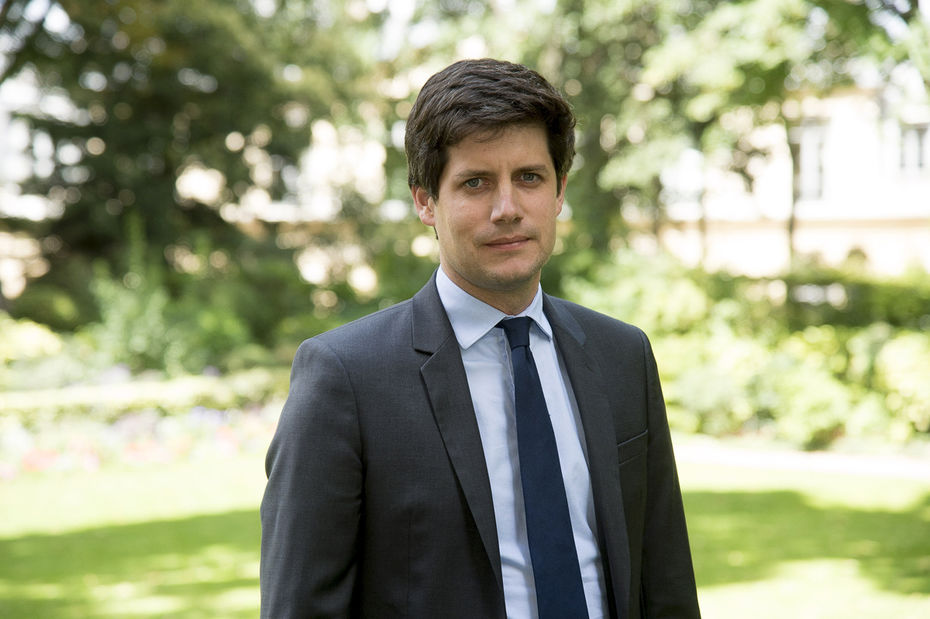without_mask: (450, 146, 542, 286)
